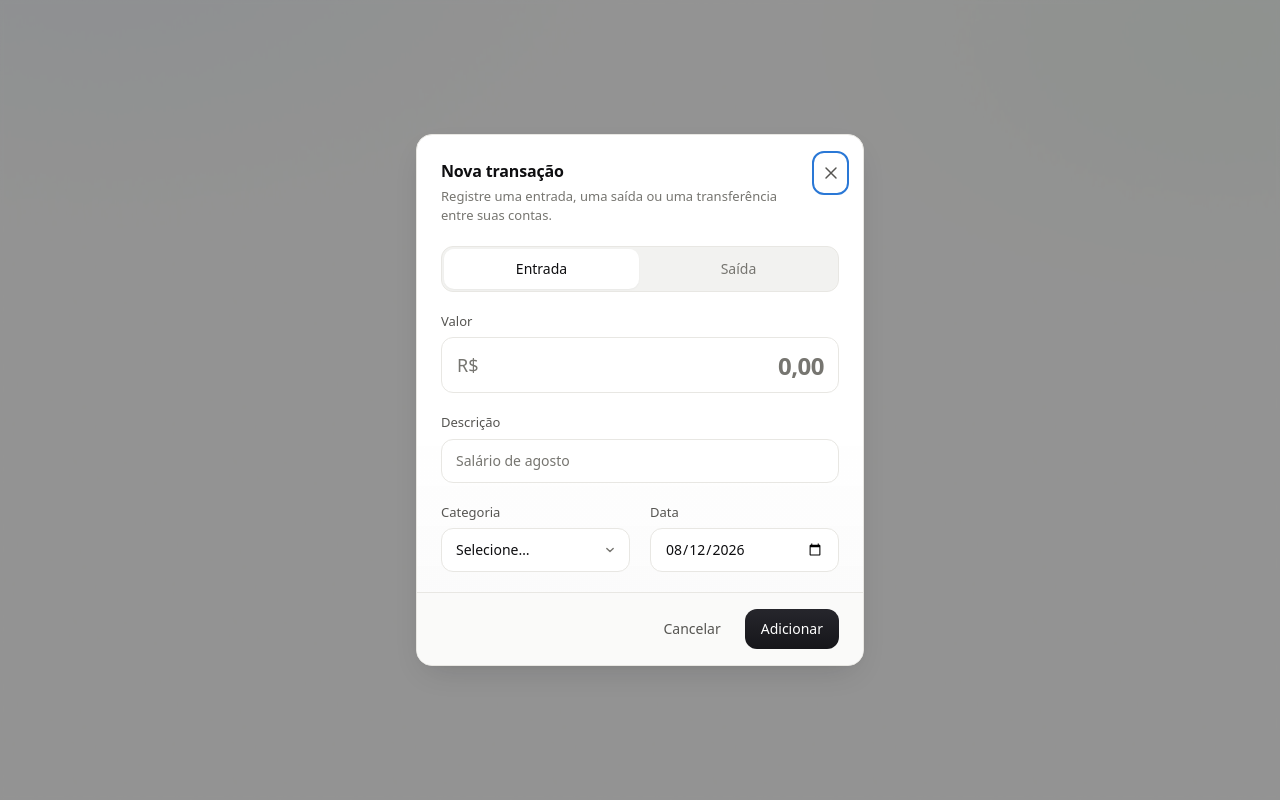
diálogo de transação › mostra uma mensagem amigável quando o servidor recusa
Type "5000" into the field labelled "Valor". click: {"x": 640, "y": 365}
box: top-left (441, 337), bottom-right (839, 393)
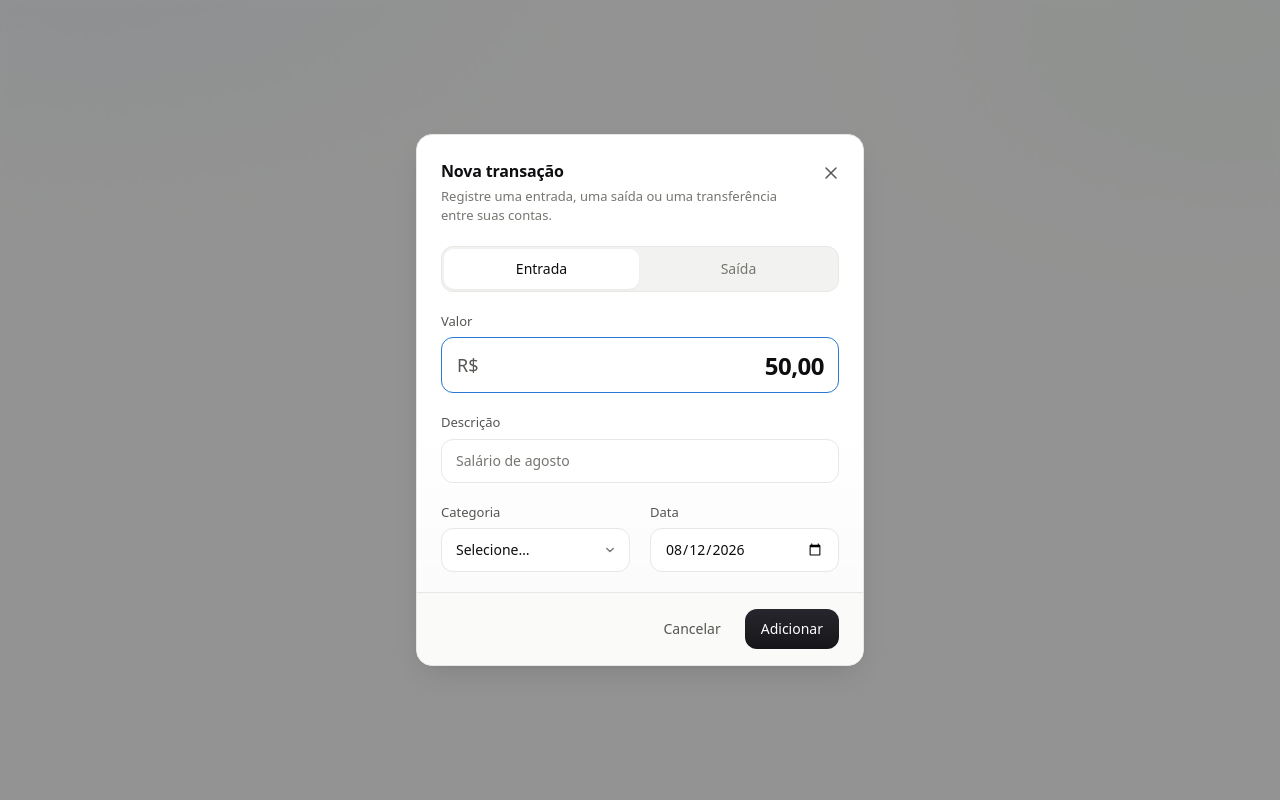
Type "Salário" into the field labelled "Descrição". click: {"x": 640, "y": 461}
box: top-left (441, 439), bottom-right (839, 483)
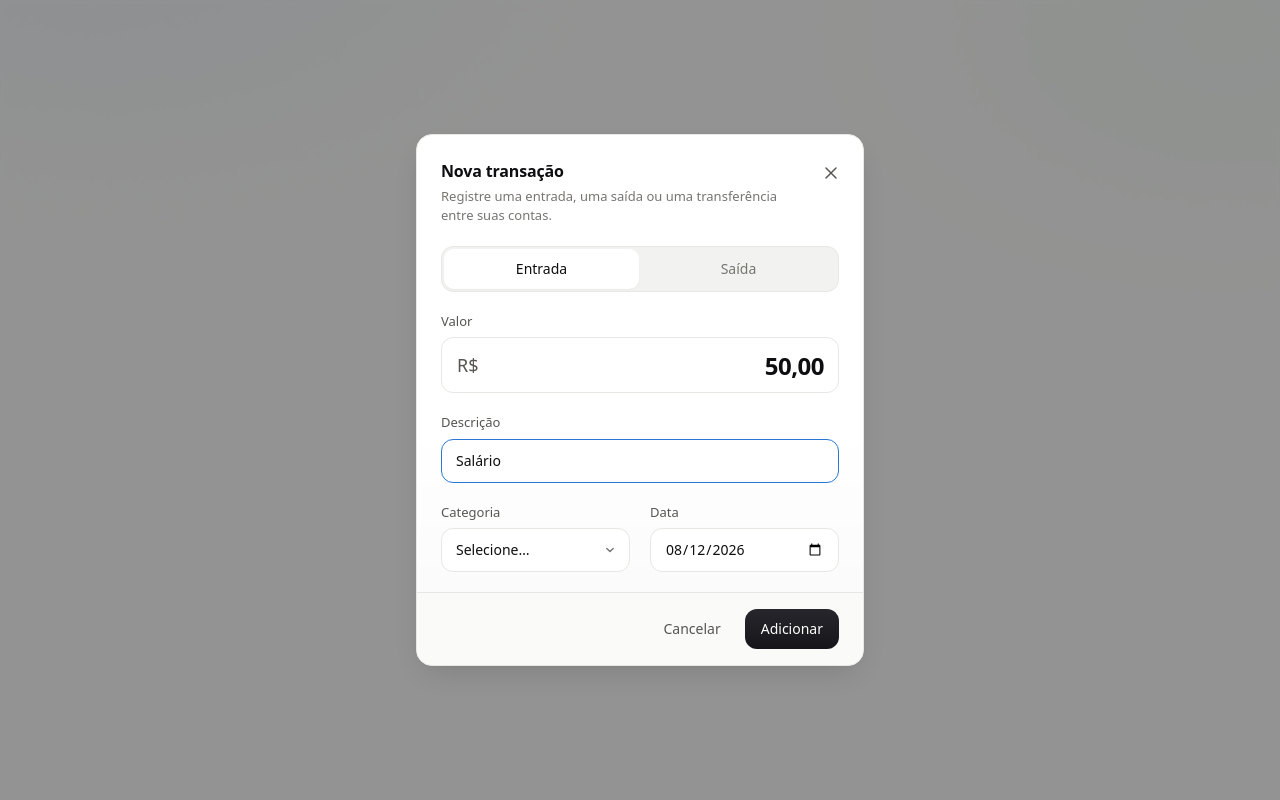
Select "Salário" in the dropdown labelled "Categoria". click: {"x": 536, "y": 550}
box: top-left (441, 528), bottom-right (630, 572)
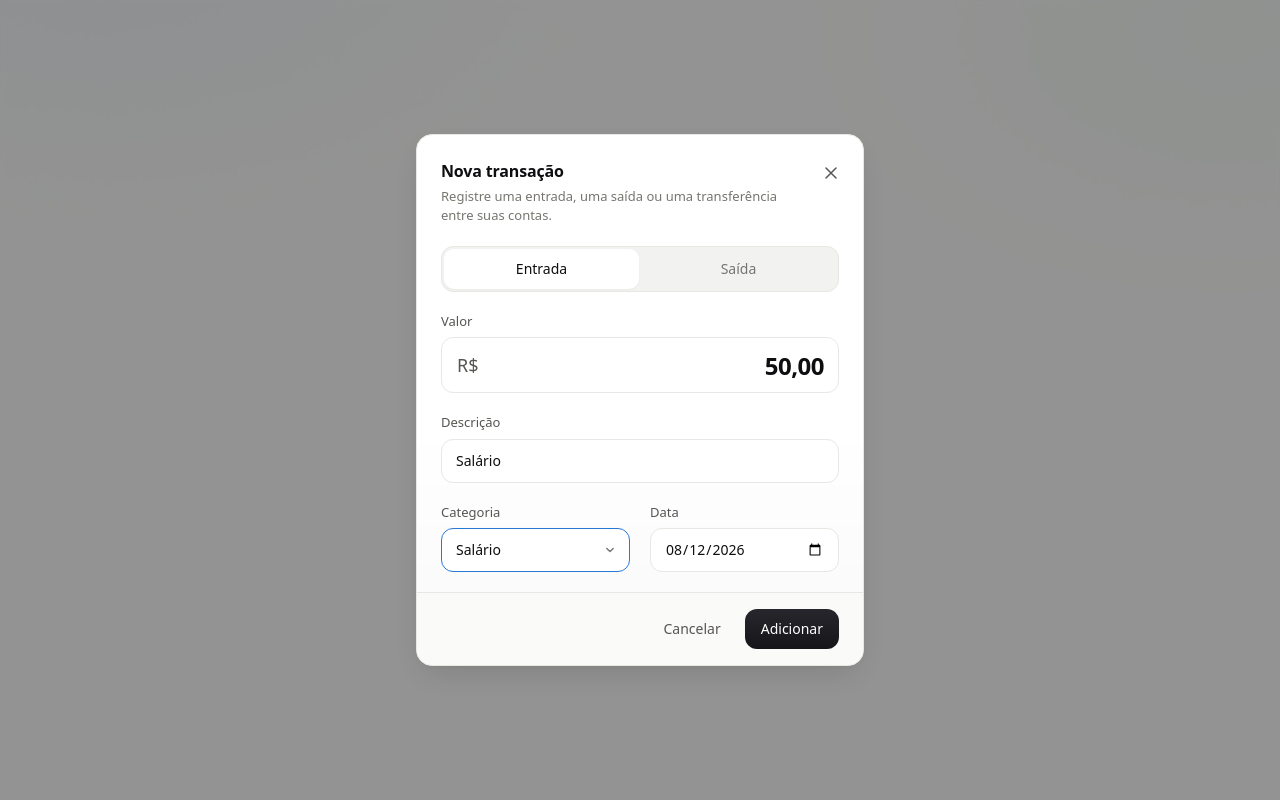
Click the button "Adicionar". click: {"x": 792, "y": 629}
box: top-left (745, 609), bottom-right (839, 649)
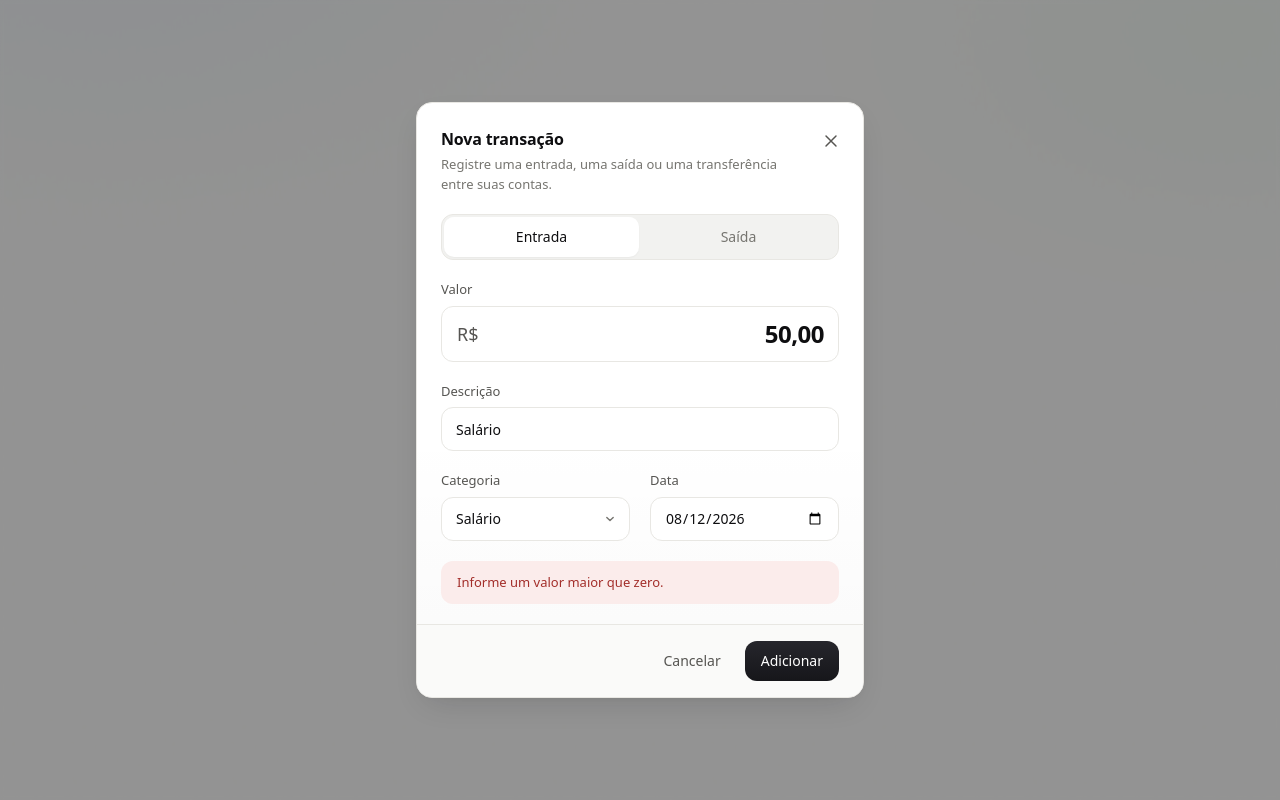
Check: the message reads "Informe um valor maior que zero.", box top-left (457, 572), bottom-right (664, 590)
